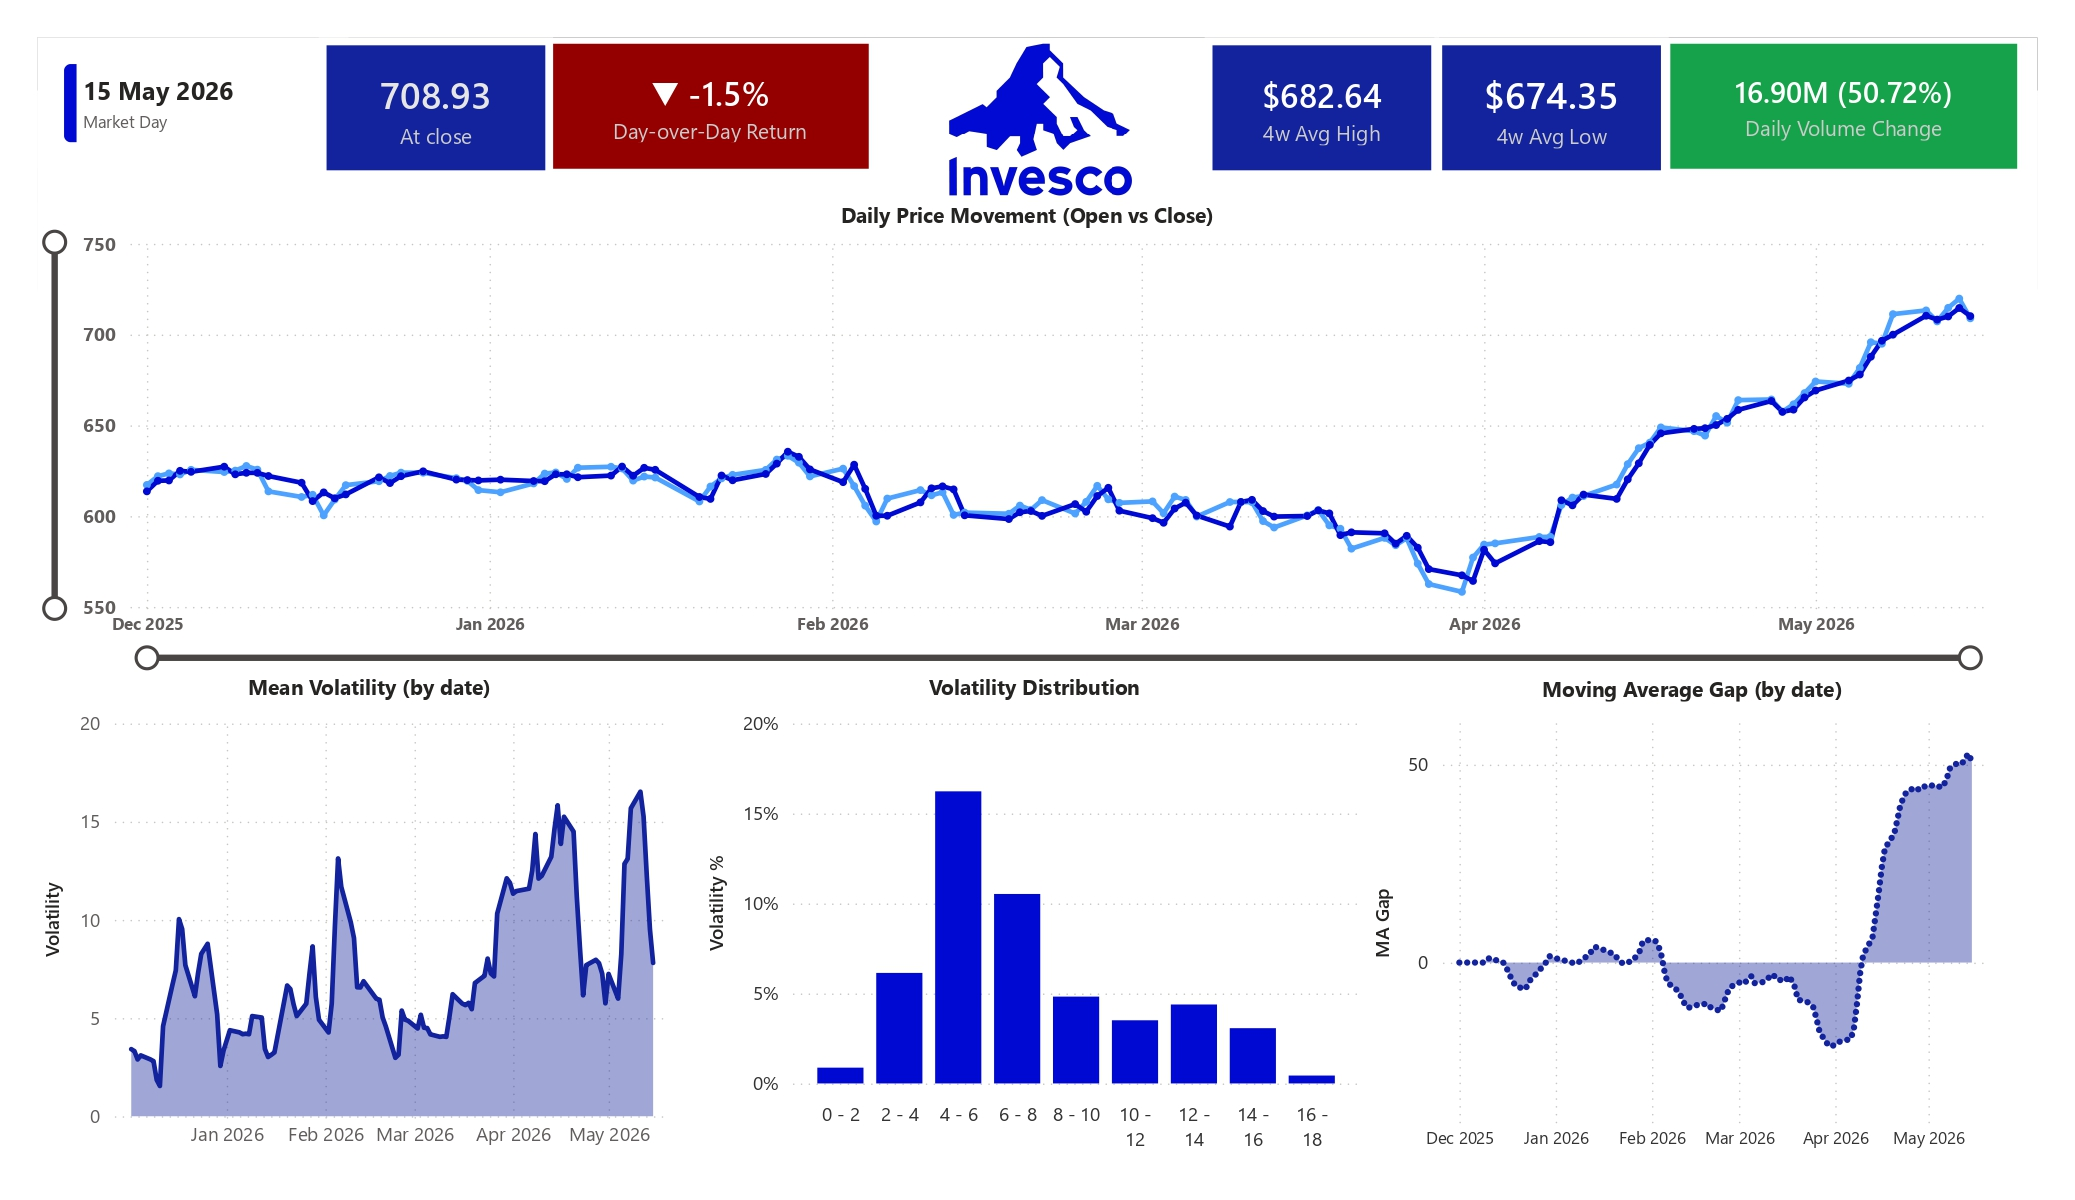

The page's visual inventory and layout, read from the dashboard file:
{"tool":"powerbi","page":{"name":"QQQ","canvas":[1280,720],"ordinal":1},"visuals":[{"type":"cardVisual","fields":{"Data":["fct_stock_metrics.Return Indicator (QQQ)"]},"box":[329.4,4.5,202.2,80],"z":0},{"type":"lineChart","title":"Daily Price Movement (Open vs Close)","fields":{"Y":["Sum(fct_stock_metrics.close)"],"Category":["fct_stock_metrics.date"],"Y2":["Sum(fct_stock_metrics.open)"]},"box":[0,104.8,1267,302.7],"z":1000},{"type":"lineStackedColumnComboChart","title":"Volatility Distribution","fields":{"Category":["fct_stock_metrics.Volatility Bin"],"Y":["fct_stock_metrics.Volatility %"]},"box":[425.3,407.3,425.3,313],"z":2000},{"type":"cardVisual","fields":{"Data":["fct_stock_metrics.Volume Change Summary (QQQ)"]},"box":[1045.2,4.5,221.6,79.4],"z":3000},{"type":"cardVisual","fields":{"Data":["Max(DateTable.Date)"]},"box":[0,0,199.4,84.2],"z":4000},{"type":"image","box":[549.6,0,184.2,104.8],"z":5000},{"type":"cardVisual","fields":{"Data":["fct_stock_metrics.4w Avg High (QQQ)"]},"box":[747.2,0,150,90],"z":6000},{"type":"cardVisual","fields":{"Data":["fct_stock_metrics.4w Avg Low (QQQ)"]},"box":[894,0,149.7,89.8],"z":7000},{"type":"areaChart","title":"Mean Volatility (by date)","fields":{"Category":["DateTable.Date"],"Y":["Avg(fct_stock_metrics.volatility_7)"]},"box":[0,407.3,425.3,313],"z":8000},{"type":"areaChart","title":"Moving Average Gap (by date)","fields":{"Category":["DateTable.Date"],"Y":["fct_stock_metrics.MA Gap"]},"box":[850.6,407.6,416.4,313.1],"z":9000},{"type":"cardVisual","fields":{"Data":["Sum(fct_stock_metrics.close)"]},"box":[179.7,0,150,90],"z":10000}]}

Visuals, with their boxes on the page's 1280x720 design canvas (x1, y1, x2, y2). These are canvas units, not pixel positions in the 2075x1200 screenshot, which may show the page scaled, cropped or inside an application window:
cardVisual - fct_stock_metrics.Return Indicator (QQQ): <region>329, 4, 532, 84</region>
"Daily Price Movement (Open vs Close)" lineChart: <region>0, 105, 1267, 408</region>
"Volatility Distribution" lineStackedColumnComboChart: <region>425, 407, 851, 720</region>
cardVisual - fct_stock_metrics.Volume Change Summary (QQQ): <region>1045, 4, 1267, 84</region>
cardVisual - Max(DateTable.Date): <region>0, 0, 199, 84</region>
image: <region>550, 0, 734, 105</region>
cardVisual - fct_stock_metrics.4w Avg High (QQQ): <region>747, 0, 897, 90</region>
cardVisual - fct_stock_metrics.4w Avg Low (QQQ): <region>894, 0, 1044, 90</region>
"Mean Volatility (by date)" areaChart: <region>0, 407, 425, 720</region>
"Moving Average Gap (by date)" areaChart: <region>851, 408, 1267, 721</region>
cardVisual - Sum(fct_stock_metrics.close): <region>180, 0, 330, 90</region>
